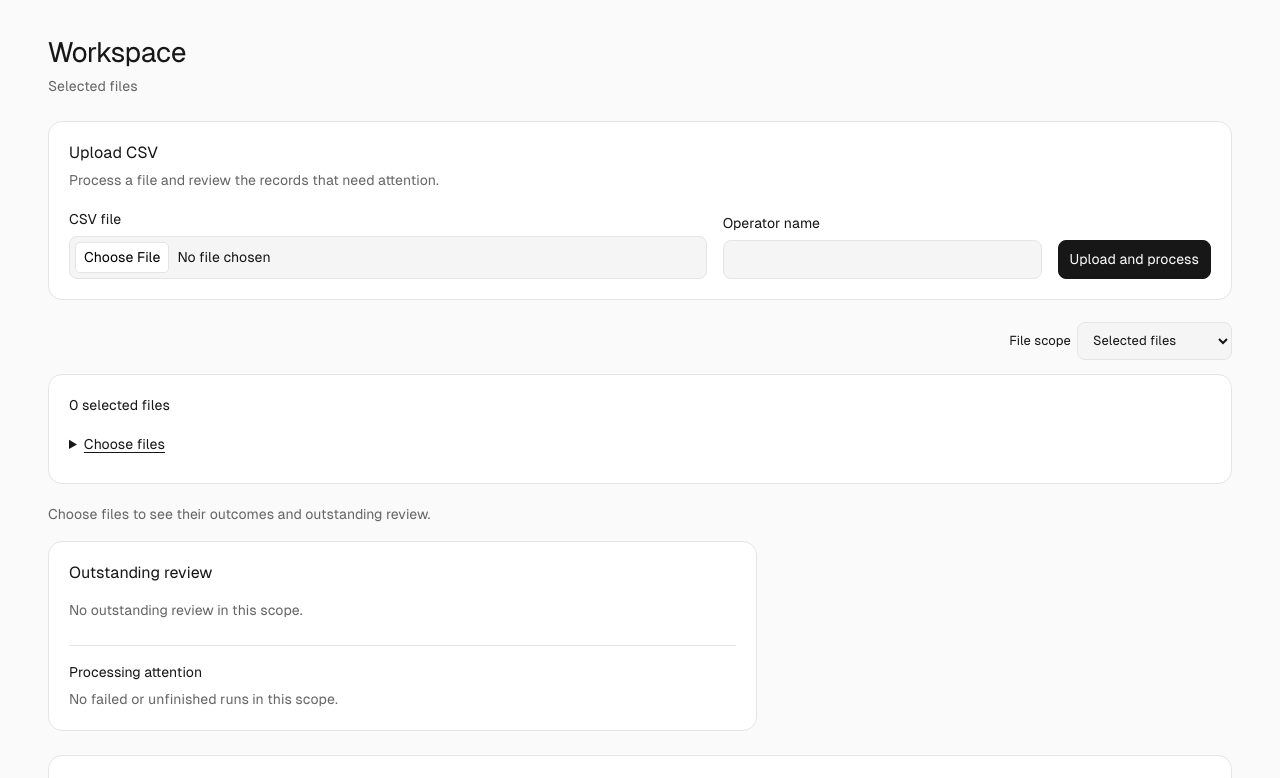
Test: a pending file catalog reports loading rather than an empty search
The image size is (1280, 778).
Click the heading "Choose files": (124, 444) [84,436,165,452]
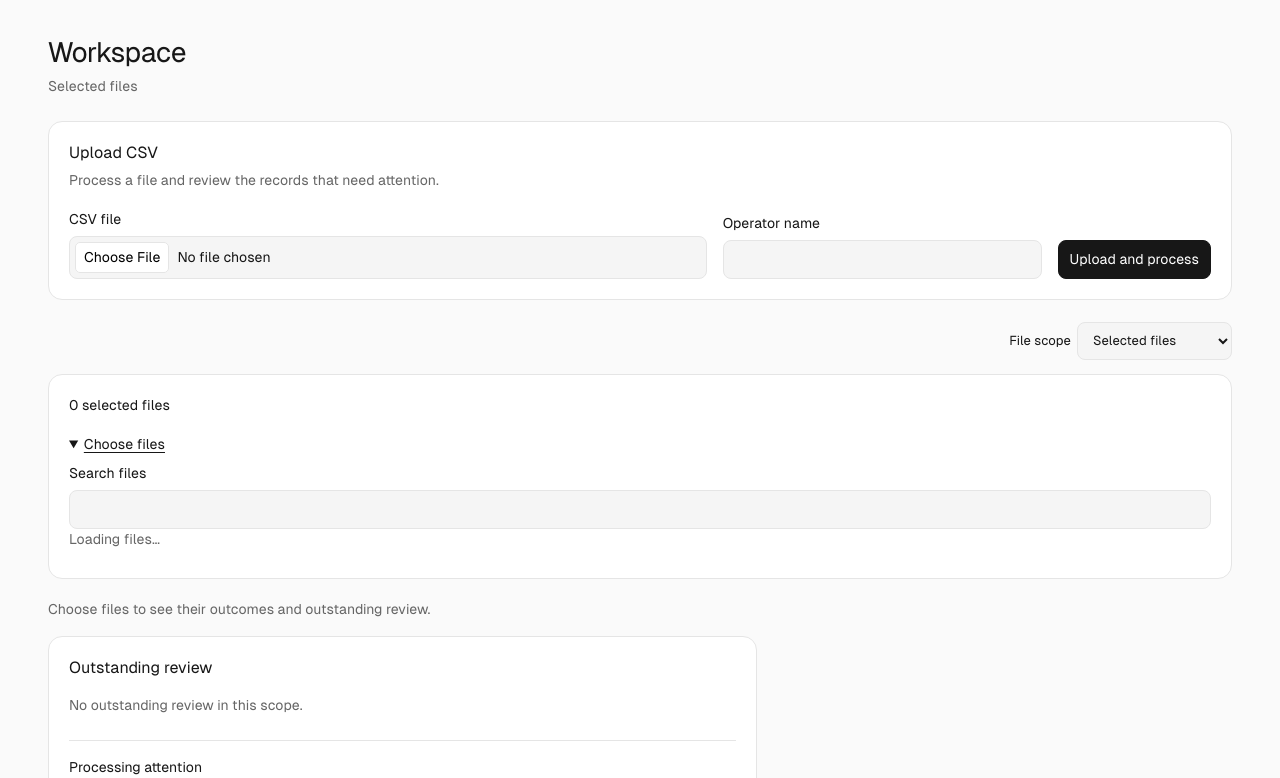
Now the message shows "Loading files", box [69,531,160,547]
